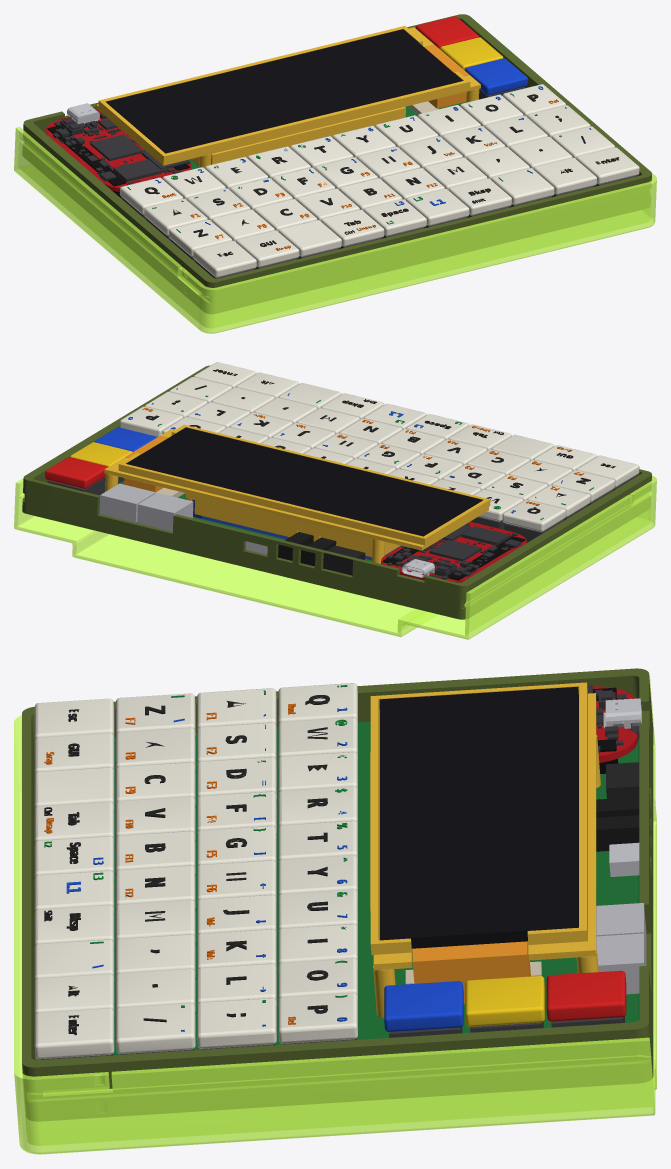
File: cradle_olive.glb
The picture shows the model from 3 angles, top to bottom: view 1: azimuth 30°, elevation 25°; view 2: azimuth 150°, elevation 25°; view 3: azimuth 270°, elevation 25°; orthographic projection. The views are drawn at different scales.
Parts seen in each view (by area): view 1: Internals, Lid, Tray; view 2: Internals, Lid, Tray; view 3: Internals, Lid, Tray.
Boxes of the visible parts, x1=… form: Internals: x1=46, y1=16, x2=639, y2=278; Lid: x1=14, y1=127, x2=656, y2=333; Tray: x1=23, y1=14, x2=651, y2=313; Internals: x1=45, y1=362, x2=639, y2=582; Lid: x1=14, y1=475, x2=656, y2=639; Tray: x1=22, y1=365, x2=651, y2=619; Internals: x1=34, y1=682, x2=646, y2=1060; Lid: x1=14, y1=672, x2=656, y2=1154; Tray: x1=22, y1=668, x2=653, y2=1120.
Bounding box in the file's own units: 0.1818 × 0.0365 × 0.1342.
